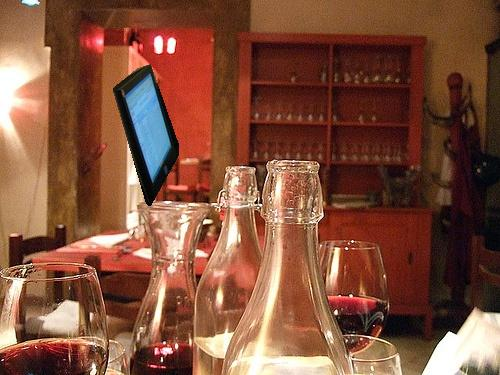tampered: (114, 65, 179, 206)
